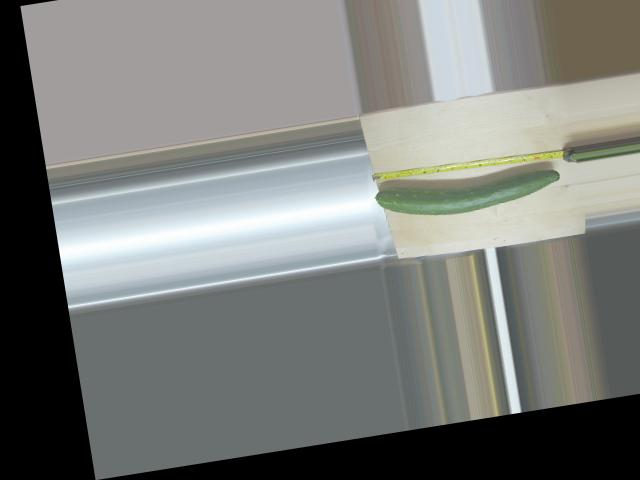cucumber: (374, 160, 563, 225)
